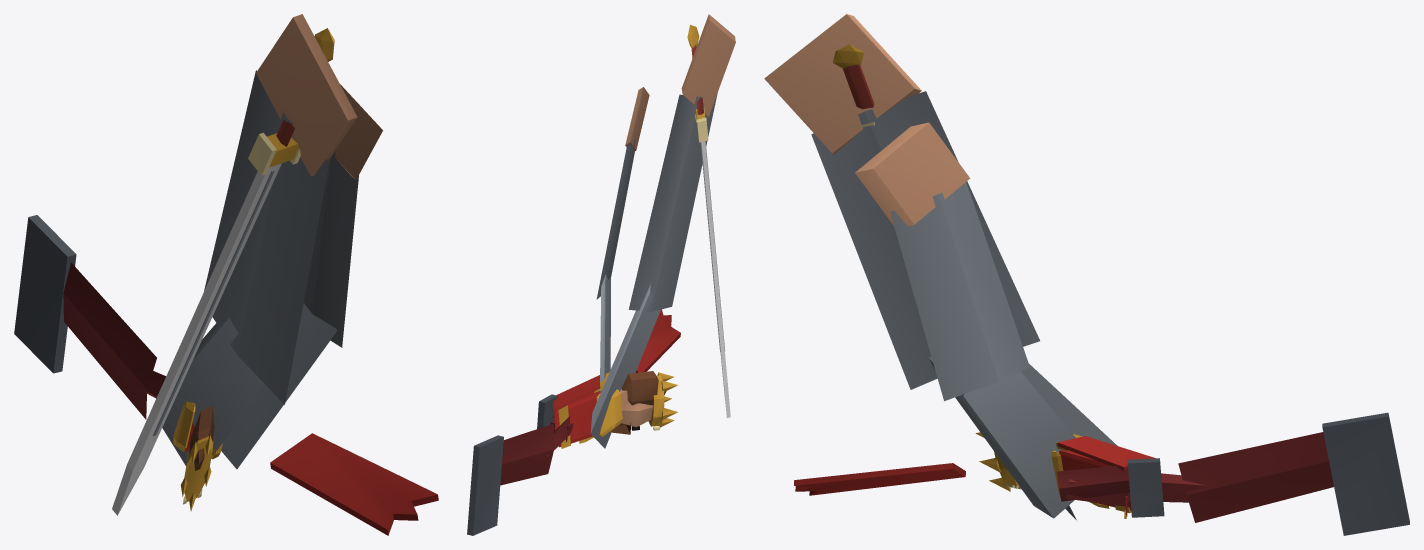
The model's file is boss.glb.
The picture shows the model from 3 angles, left to right: view 1: azimuth 30°, elevation 25°; view 2: azimuth 150°, elevation 25°; view 3: azimuth 270°, elevation 25°; orthographic projection. The views are drawn at different scales.
Parts seen in each view (by area): view 1: boss; view 2: boss; view 3: boss.
Part boxes in pixels (x1,y1,x2,y2): boss: (14, 14, 438, 535); boss: (467, 14, 735, 535); boss: (764, 14, 1409, 535).
Bounding box in the file's own units: 5.29 × 13.56 × 15.79.
